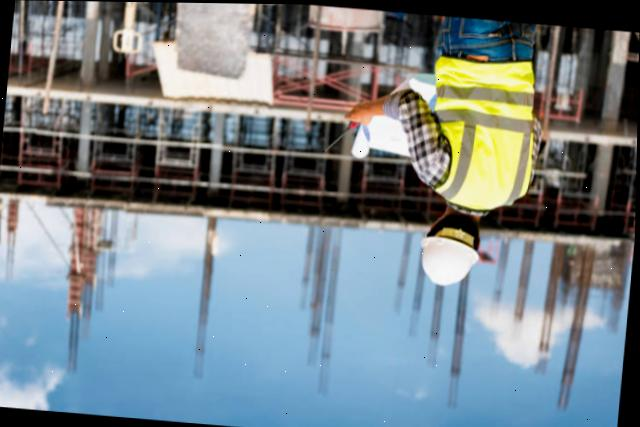helmet: (406, 220, 494, 289)
vest: (408, 40, 567, 211)
